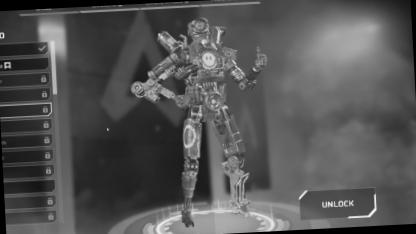Target: (176, 14, 235, 172)
